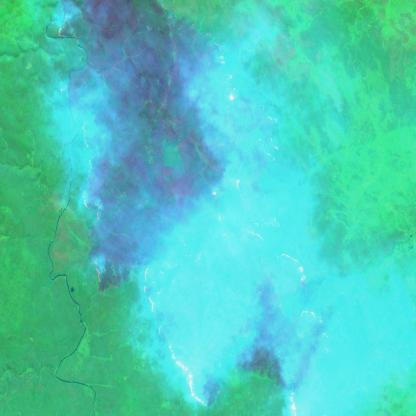fire: (124, 140, 338, 416), (200, 3, 312, 125)
